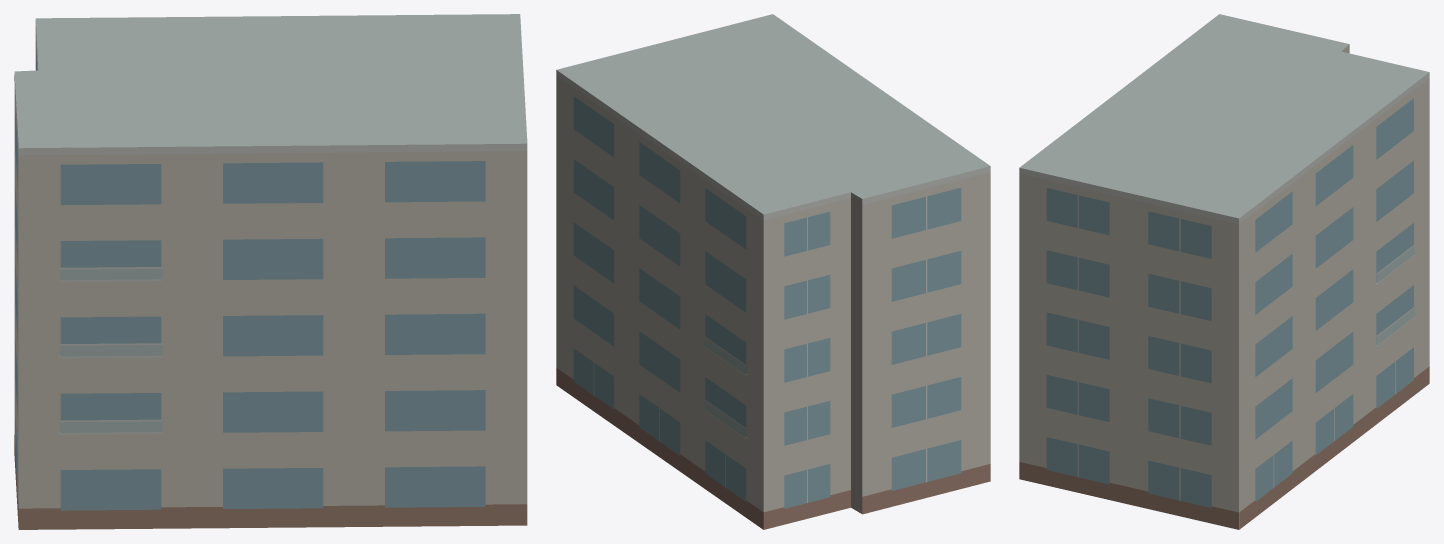
Rendered from survey-upis-32602856.glb.
3 views of the same model, side by side, from view 1: azimuth 30°, elevation 25°; view 2: azimuth 150°, elevation 25°; view 3: azimuth 270°, elevation 25° (orthographic). The views are drawn at different scales.
Parts seen in each view (by area): view 1: survey-upis-32602856.tmp; view 2: survey-upis-32602856.tmp; view 3: survey-upis-32602856.tmp.
Boxes of the visible parts, <box> form: survey-upis-32602856.tmp: <box>14,14,527,529</box>; survey-upis-32602856.tmp: <box>556,14,990,529</box>; survey-upis-32602856.tmp: <box>1019,14,1429,529</box>.
Size of the model in its own units: 18.59 by 13.2 by 15.77.
